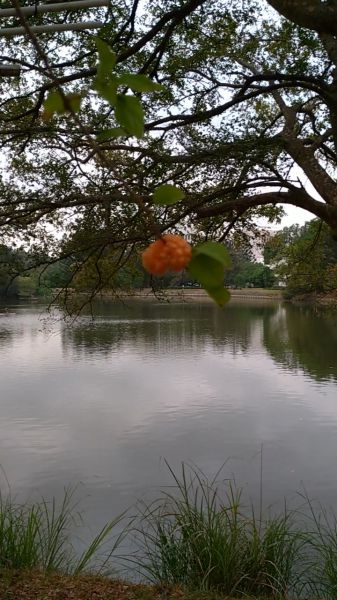eggs: (136, 227, 200, 282)
